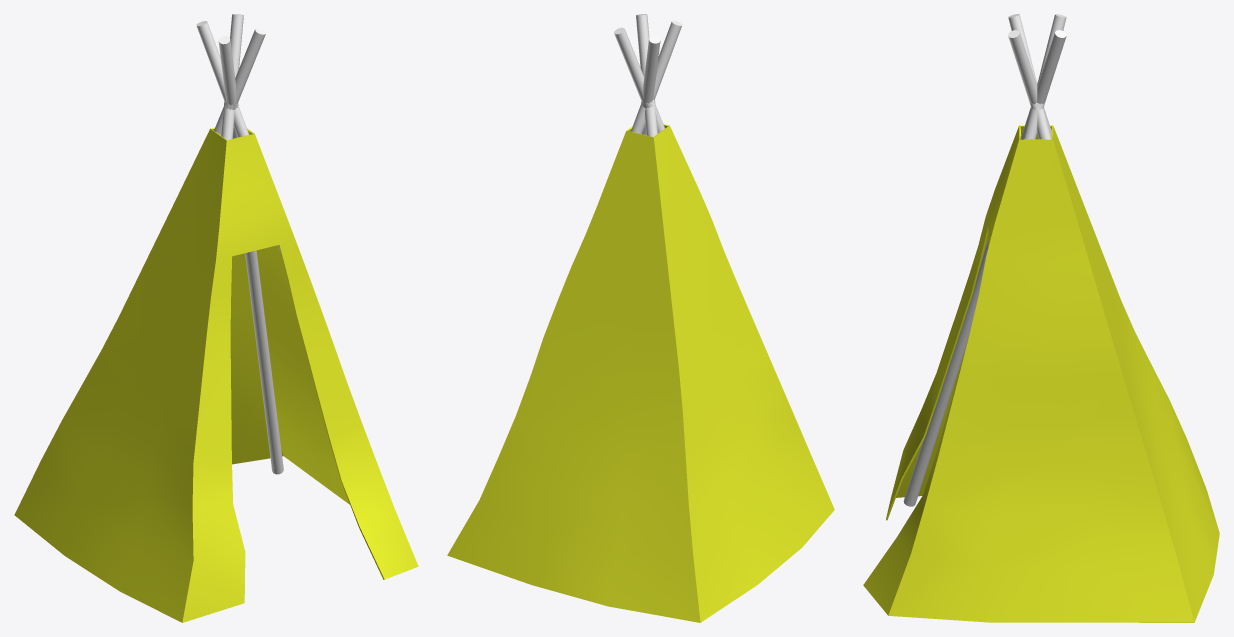
The model's file is tent.fbx.
3 renders of one model, left to right at view 1: azimuth 30°, elevation 25°; view 2: azimuth 150°, elevation 25°; view 3: azimuth 270°, elevation 25°, orthographic. The views are drawn at different scales.
Visible parts, largest first — view 1: Box022; view 2: Box022; view 3: Box022.
Boxes of the visible parts, x1,y1,x2,y2 form: Box022: (14,14,418,622); Box022: (447,14,834,622); Box022: (863,14,1219,622).
Bounding box in the file's own units: 95.68 × 177 × 106.
